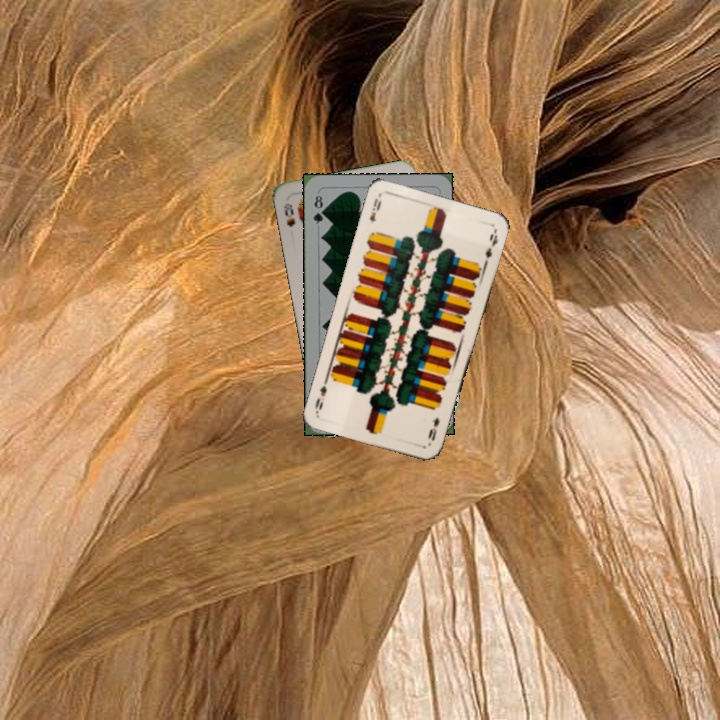E9: (366, 194, 384, 226), (424, 413, 442, 443)
G8: (309, 191, 327, 227)
S8: (280, 199, 298, 230)
